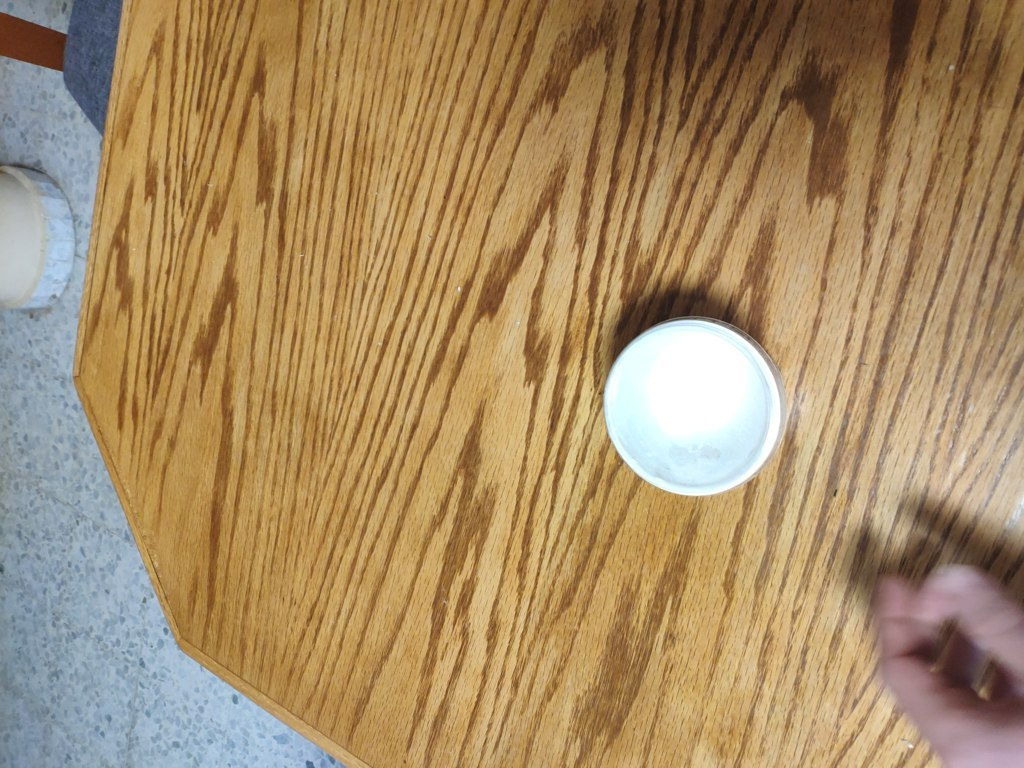Cotage: (586, 316, 813, 512)
